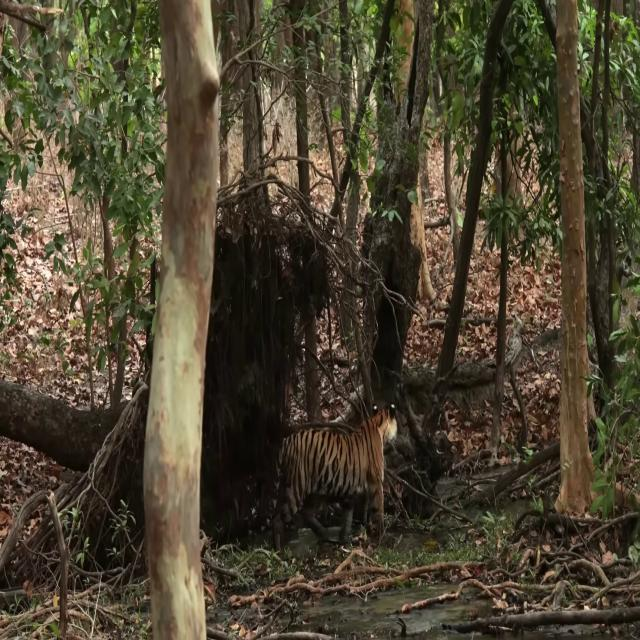tiger: (247, 399, 398, 552)
